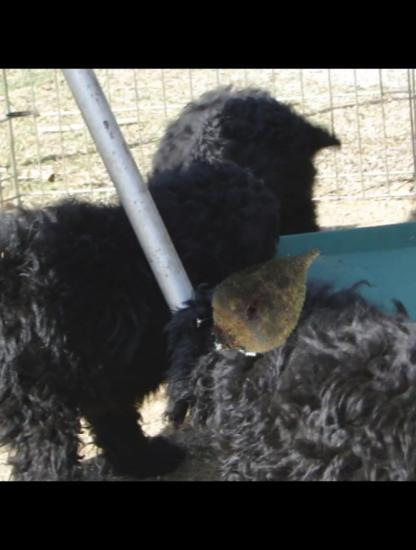Beetroot: (193, 226, 341, 374)
